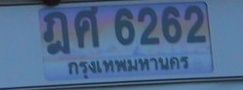txt11: (42, 11, 71, 55)
txt33: (73, 5, 100, 49)
